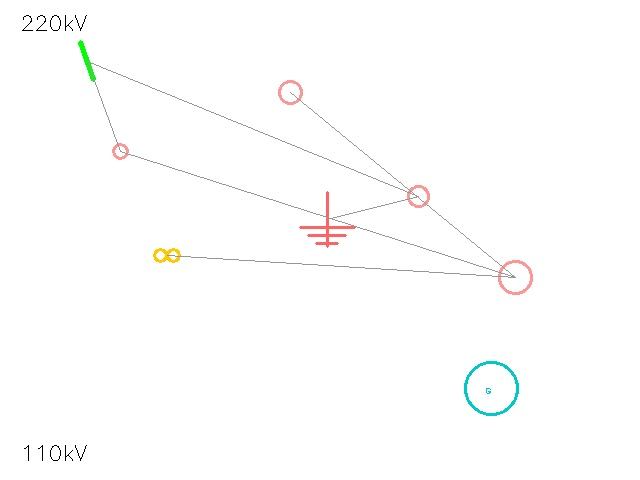busbar: (63, 37, 111, 85)
fuse: (268, 70, 312, 114)
generator: (465, 362, 517, 414)
ground: (300, 192, 354, 246)
reactor: (482, 244, 548, 310), (397, 175, 439, 217), (105, 136, 135, 166)
transformer_2w: (150, 238, 184, 272)
